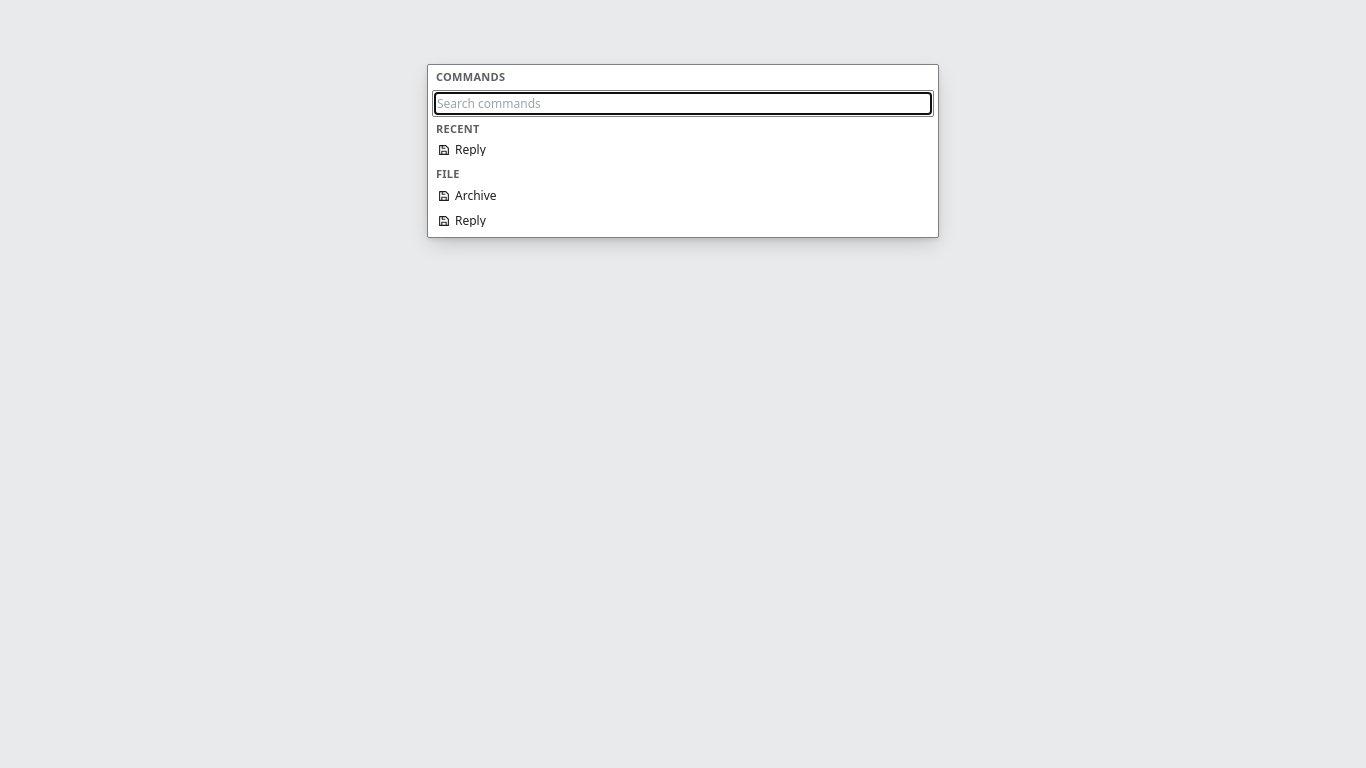
Test case: CommandPalette — searching › replaces the browse blocks with results once a query is typed
Type "arch" into the search field labelled "Search commands" at (683, 103), box x1=432 y1=90 x2=934 y2=116
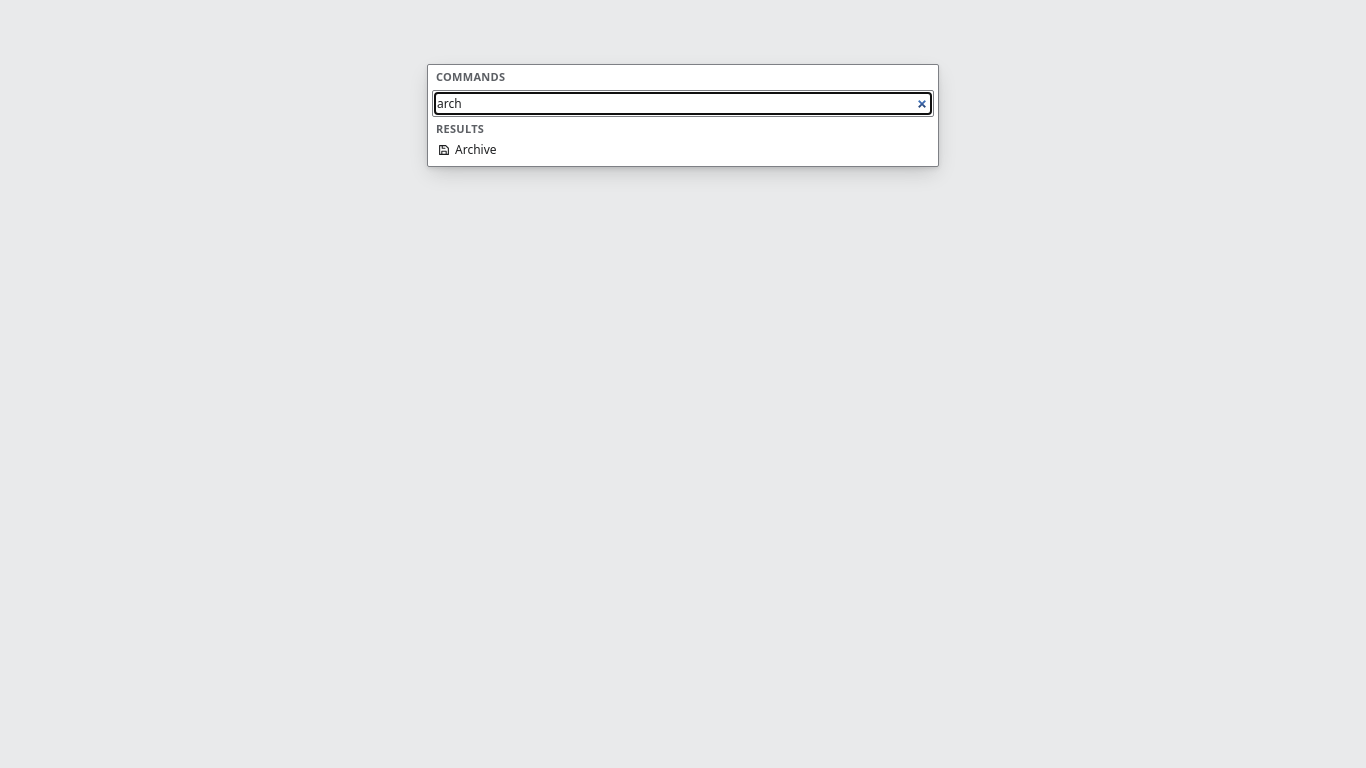
Expected: the button "Archive" is shown, x1=432 y1=138 x2=934 y2=162
Expected: the button "Reply" is gone
